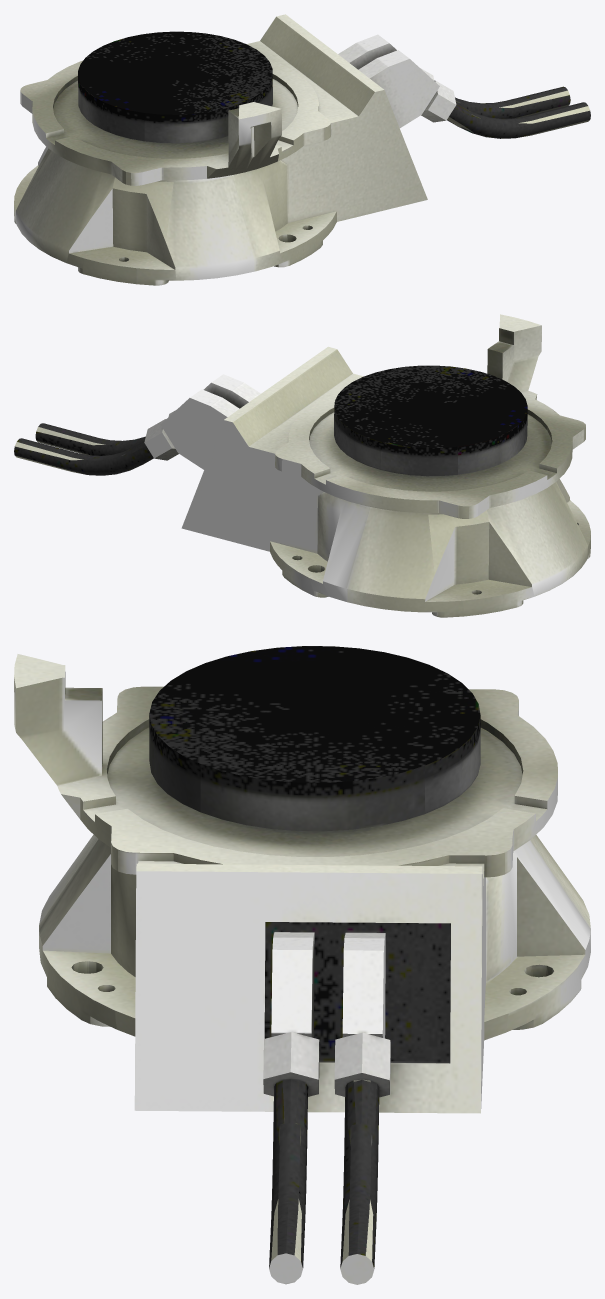
Rendered from robot1_base.glb.
The picture shows the model from 3 angles, top to bottom: view 1: azimuth 30°, elevation 25°; view 2: azimuth 150°, elevation 25°; view 3: azimuth 270°, elevation 25°; orthographic projection. The views are drawn at different scales.
Parts seen in each view (by area): view 1: Asset3DLoader.sceneRoot; view 2: Asset3DLoader.sceneRoot; view 3: Asset3DLoader.sceneRoot.
Boxes of the visible parts, left/top/right/bottom form: Asset3DLoader.sceneRoot: left=14, top=14, right=590, bottom=285; Asset3DLoader.sceneRoot: left=14, top=314, right=590, bottom=617; Asset3DLoader.sceneRoot: left=14, top=646, right=590, bottom=1284.
Size of the model in its own units: 1059 by 316 by 575.
1 material, 1 textured.
